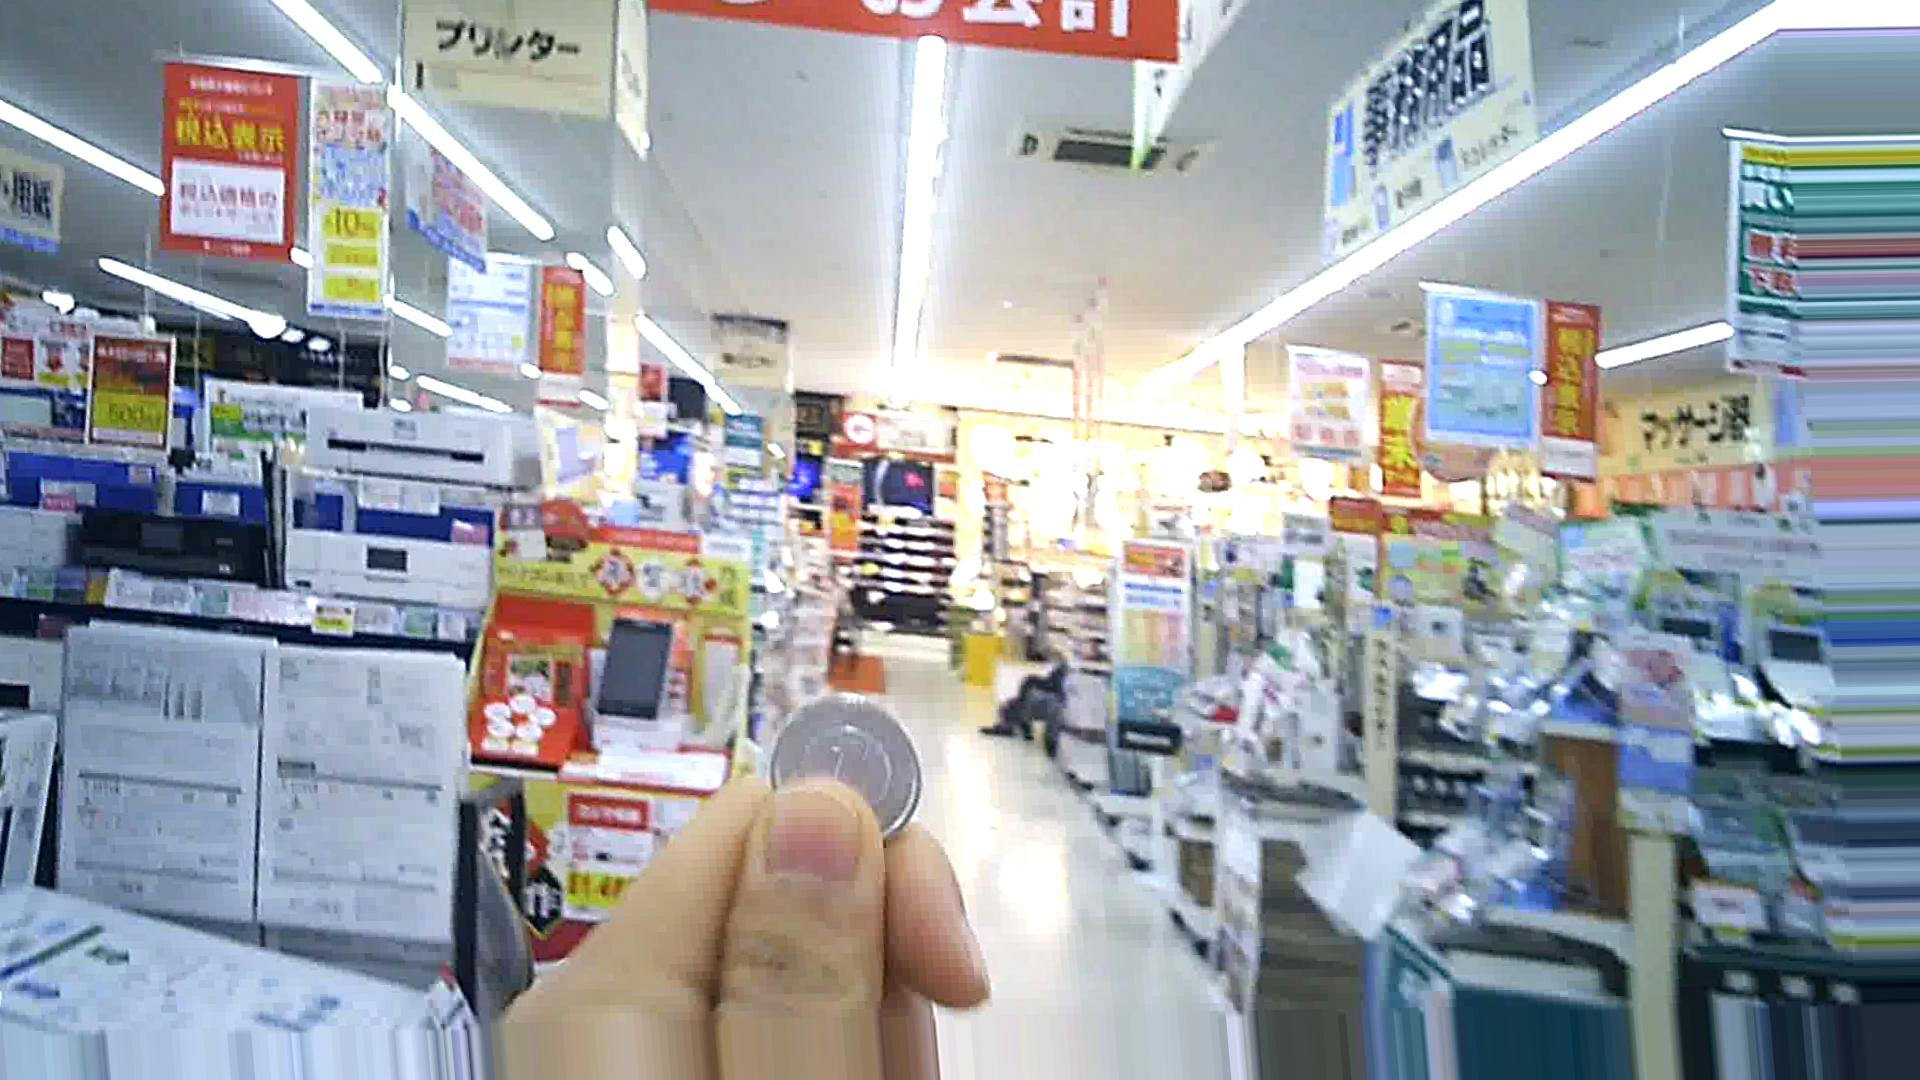1 Yen: (764, 684, 938, 853)
